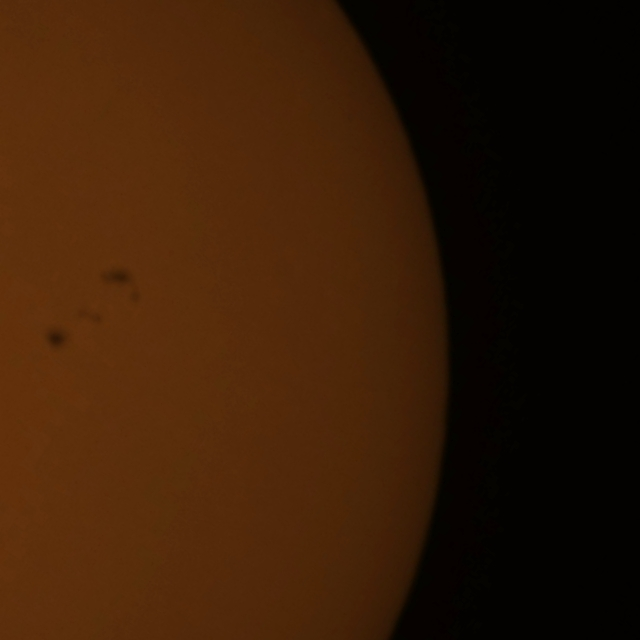sunspot: (45, 328, 70, 353)
